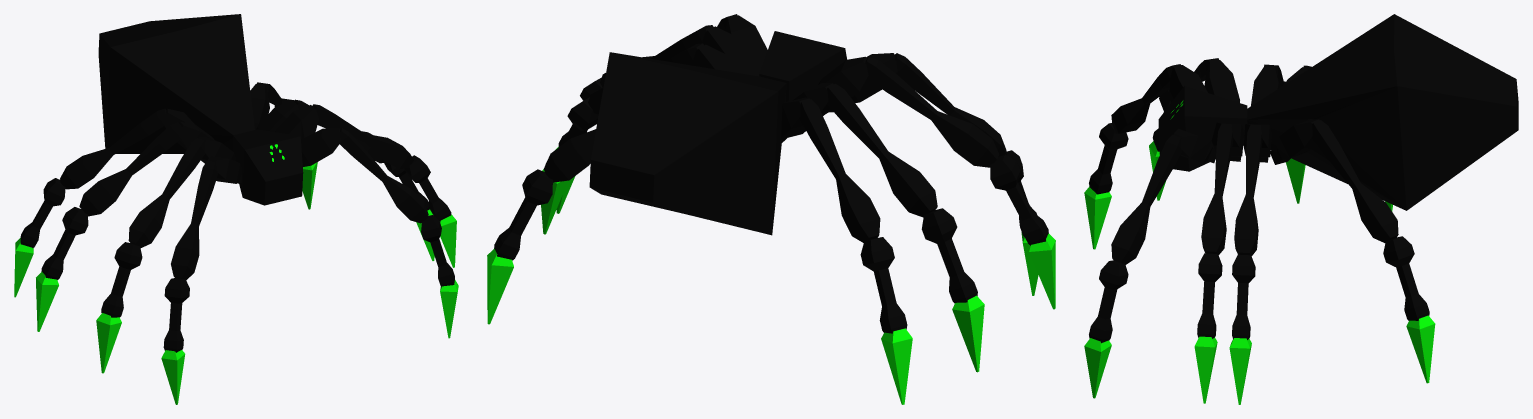
File: spider2_newer.obj
The picture shows the model from 3 angles, left to right: view 1: azimuth 30°, elevation 25°; view 2: azimuth 150°, elevation 25°; view 3: azimuth 270°, elevation 25°; orthographic projection. The views are drawn at different scales.
Visible parts, largest first — view 1: 立方体; view 2: 立方体; view 3: 立方体.
Part boxes in pixels (x1,y1,x2,y2): 立方体: (14, 14, 458, 404); 立方体: (487, 14, 1055, 404); 立方体: (1084, 14, 1518, 404).
Bounding box in the file's own units: 6.56 × 4.06 × 5.87.
Materials: 1 (1 with a texture image).
